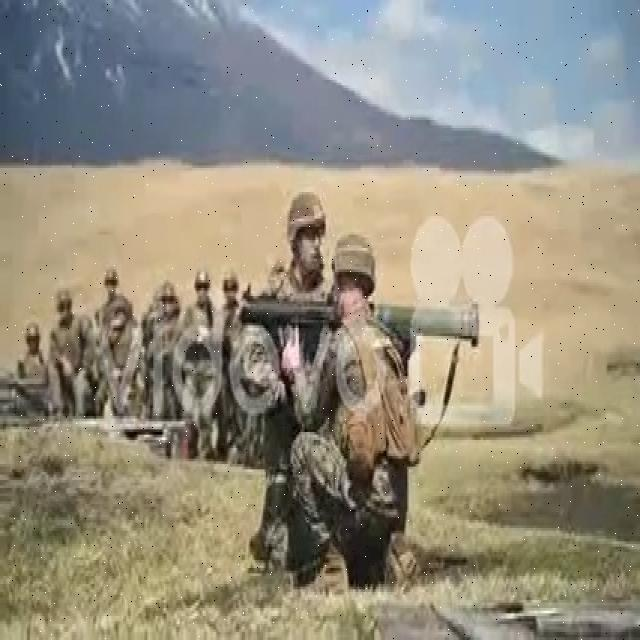bazooka: (231, 286, 486, 353)
